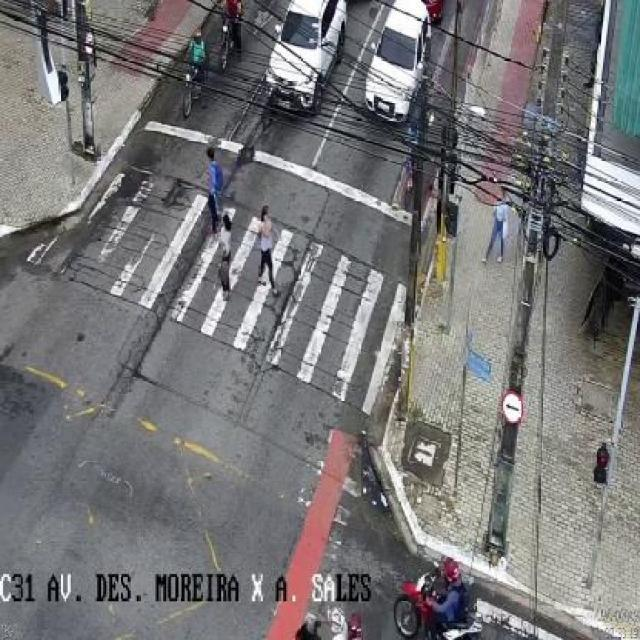Car: (358, 0, 438, 126), (277, 0, 346, 142)
Cycle: (390, 524, 485, 640), (256, 600, 369, 640), (213, 0, 259, 64), (178, 23, 210, 99)
